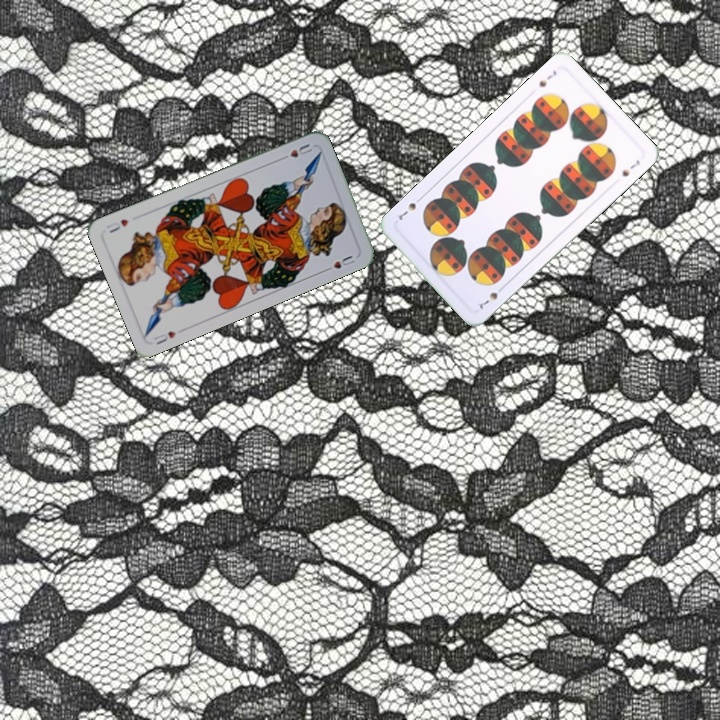HU: (276, 140, 315, 163), (150, 327, 178, 347)
S7: (475, 282, 507, 312), (535, 66, 559, 90)
